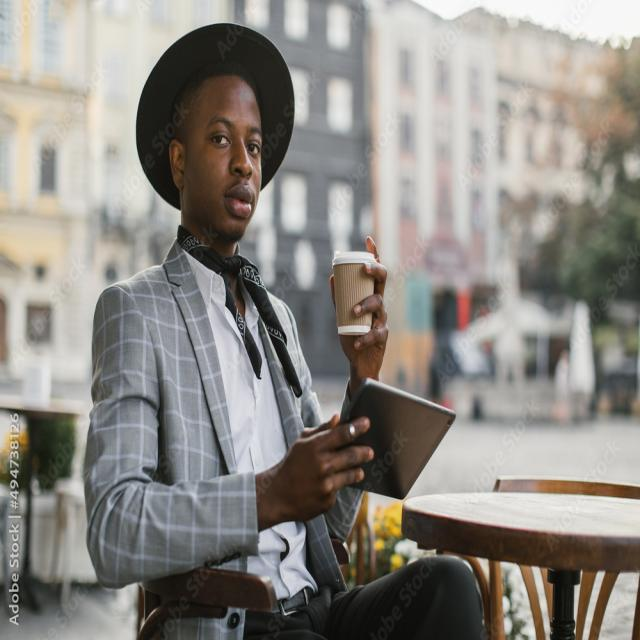hat: (120, 13, 310, 197)
